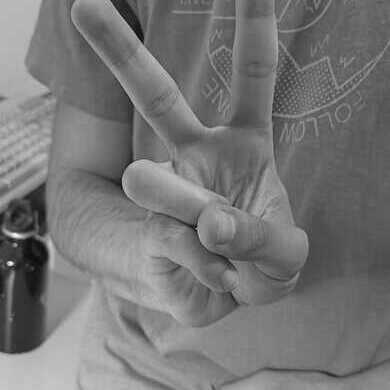V: (70, 1, 310, 327)
